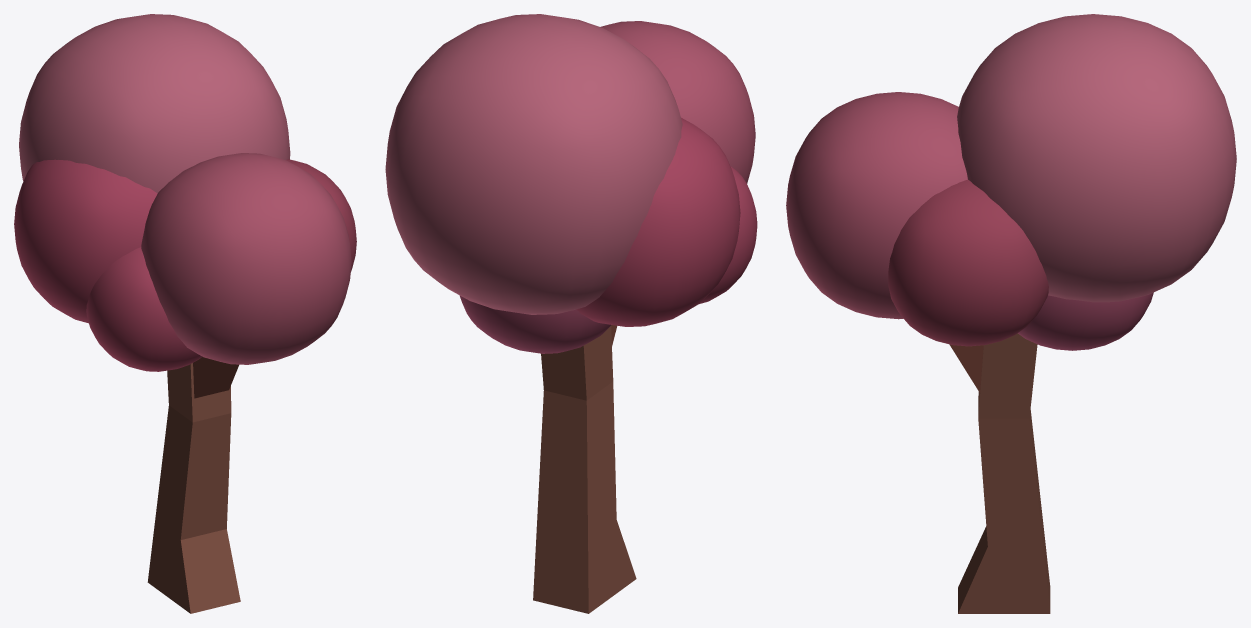
Rendered from tree.glb.
3 renders of one model, left to right at view 1: azimuth 30°, elevation 25°; view 2: azimuth 150°, elevation 25°; view 3: azimuth 270°, elevation 25°, orthographic. The views are drawn at different scales.
Parts seen in each view (by area): view 1: Cube.001, Cube, Cube.002; view 2: Cube.001, Cube; view 3: Cube.001, Cube, Cube.002.
Boxes of the visible parts, left/top/right/bottom form: Cube.001: left=14, top=14, right=356, bottom=371; Cube: left=147, top=363, right=240, bottom=613; Cube.002: left=193, top=357, right=238, bottom=398; Cube.001: left=385, top=14, right=757, bottom=353; Cube: left=533, top=326, right=636, bottom=613; Cube.001: left=786, top=14, right=1236, bottom=350; Cube: left=958, top=333, right=1050, bottom=613; Cube.002: left=949, top=344, right=983, bottom=392.
Bounding box in the file's own units: 4.83 × 8.8 × 6.28.
